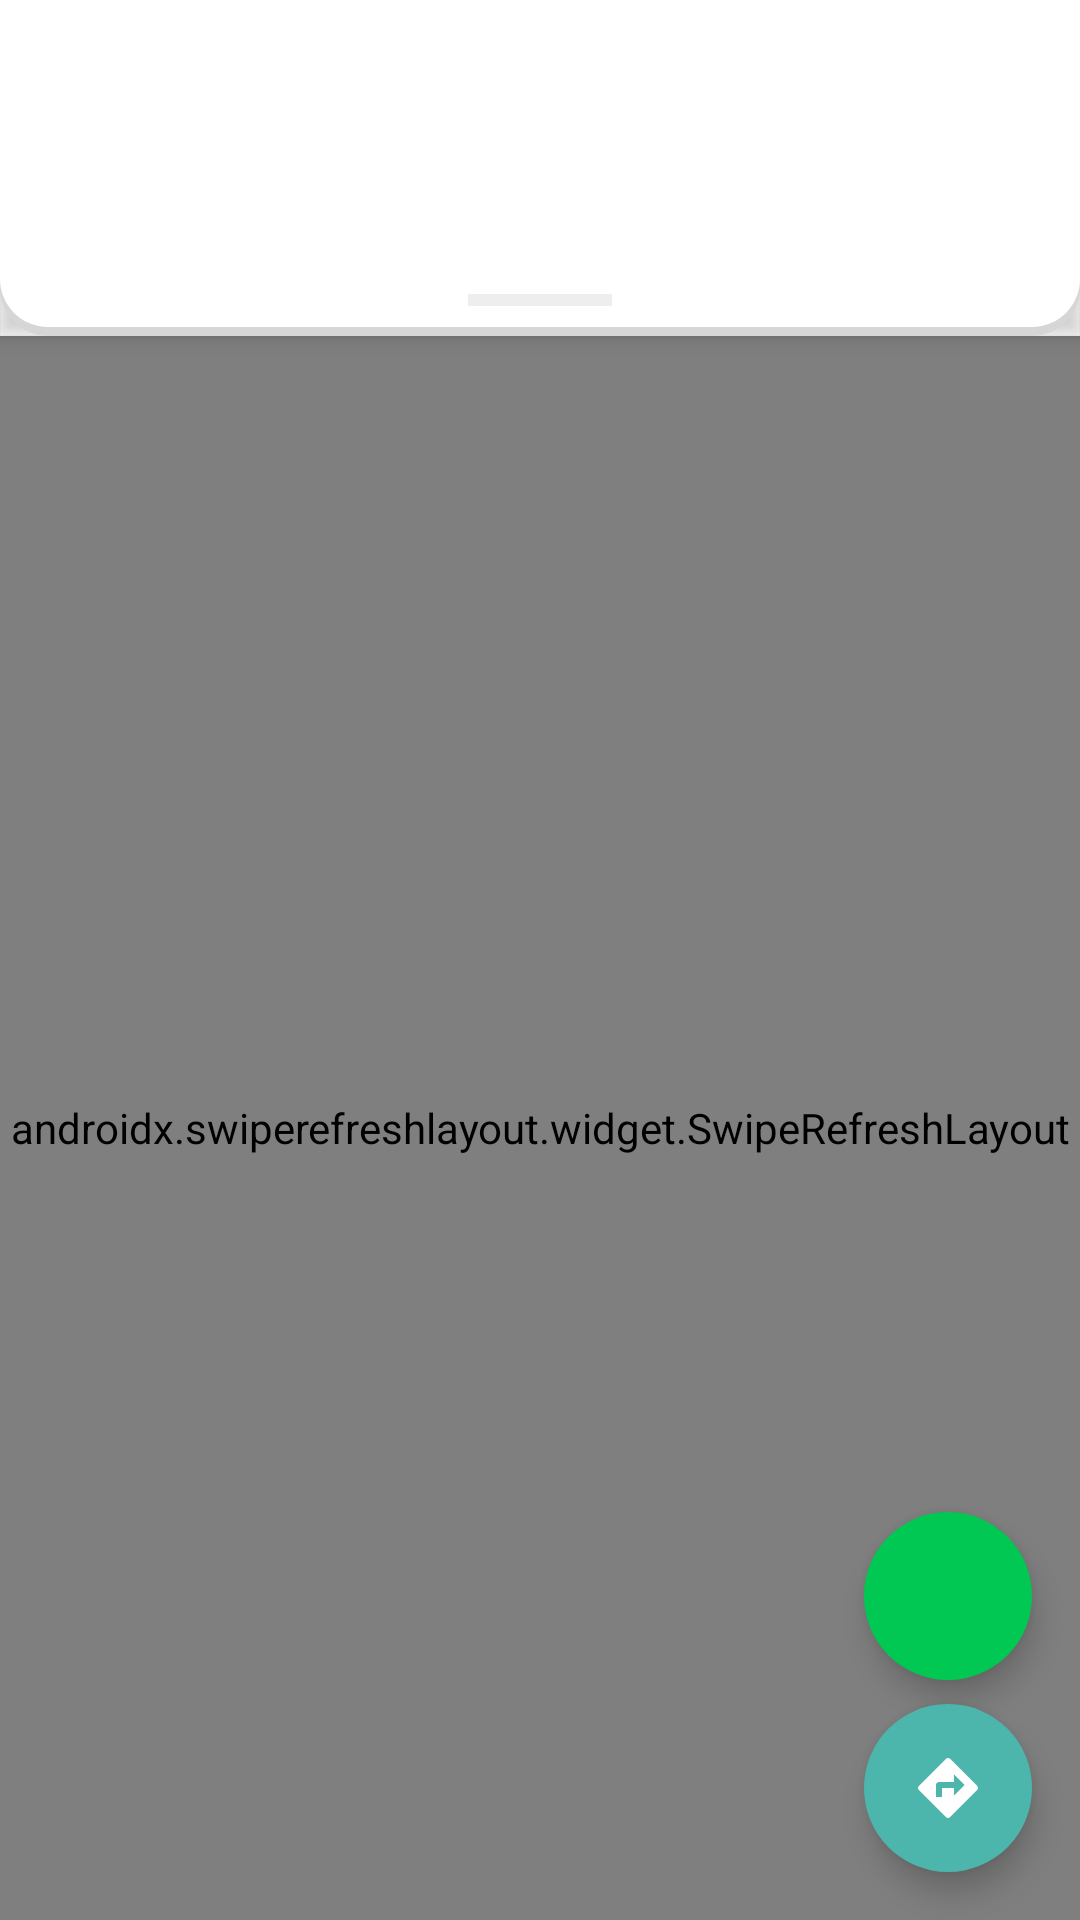

Icons on this 1080 × 1920 Android screen, each with the point to tap as point (x, y):
direction: point (948, 1788)
